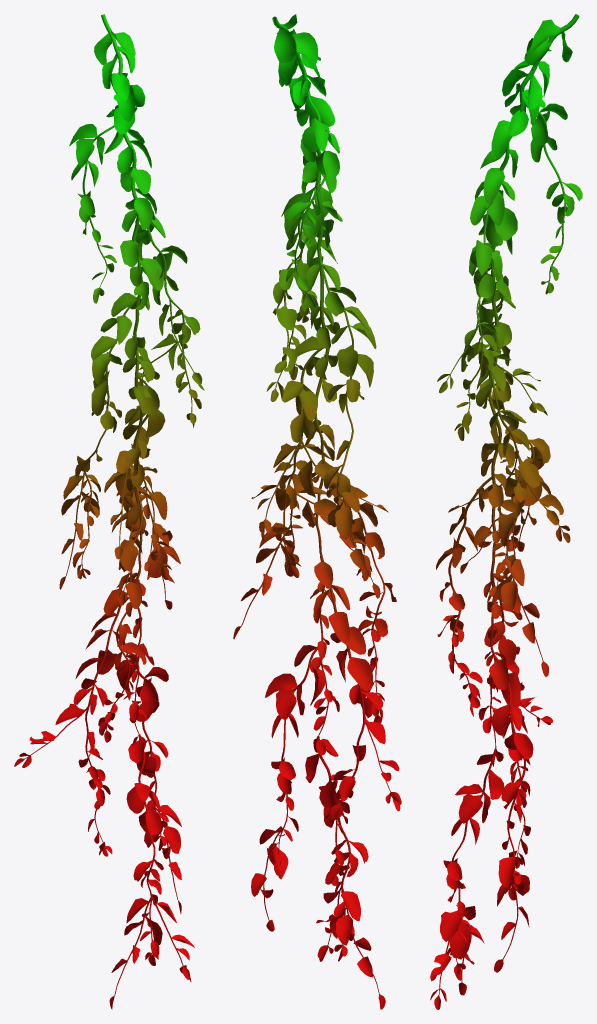
The model's file is DroppingPlantVar7_LOD0.fbx.
The picture shows the model from 3 angles, left to right: view 1: azimuth 30°, elevation 25°; view 2: azimuth 150°, elevation 25°; view 3: azimuth 270°, elevation 25°; orthographic projection. The views are drawn at different scales.
Visible parts, largest first — view 1: _rejs_Var7_LOD0; view 2: _rejs_Var7_LOD0; view 3: _rejs_Var7_LOD0.
Part boxes in pixels (x1=…): _rejs_Var7_LOD0: x1=14, y1=14, x2=204, y2=1009; _rejs_Var7_LOD0: x1=233, y1=14, x2=401, y2=1009; _rejs_Var7_LOD0: x1=430, y1=14, x2=582, y2=1009.
Bounding box in the file's own units: 40.81 × 237 × 32.67.
